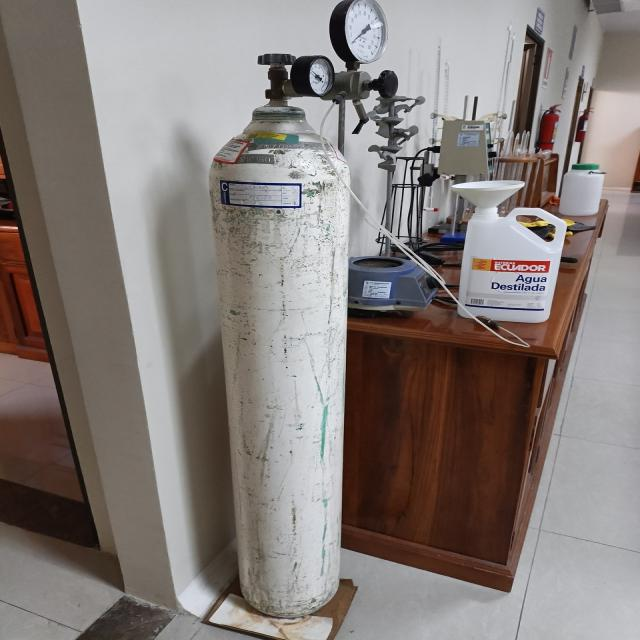Agitador de Tubos - Mezclador Vortex: (211, 1, 406, 607), (209, 0, 397, 618)
